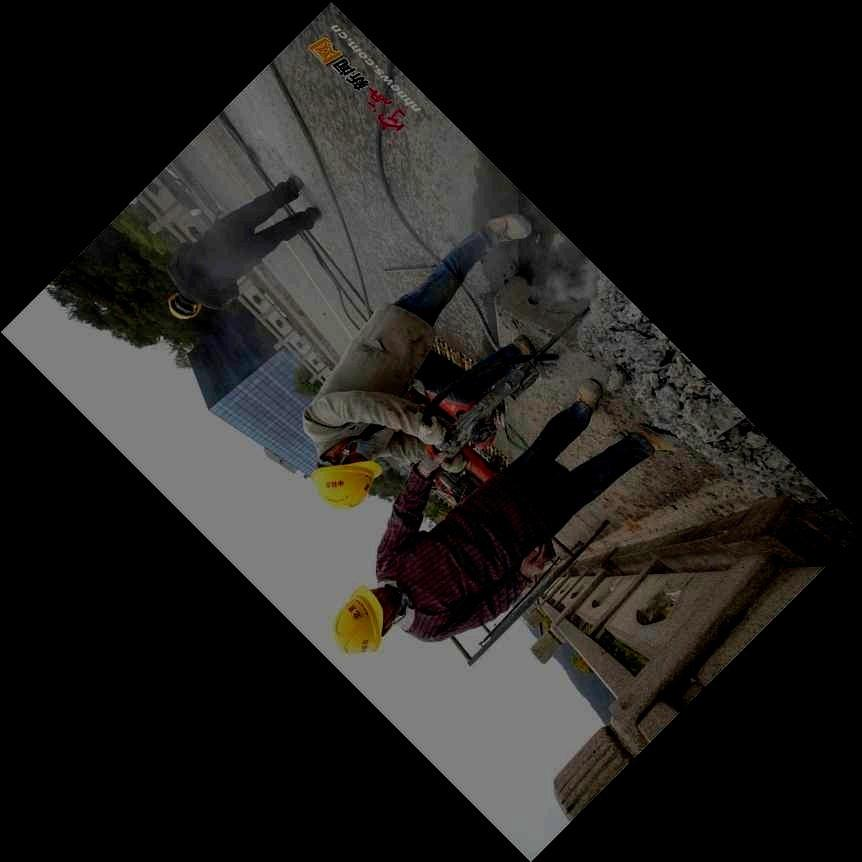helmet: (332, 585, 402, 655), (309, 446, 382, 509), (168, 293, 202, 319)
